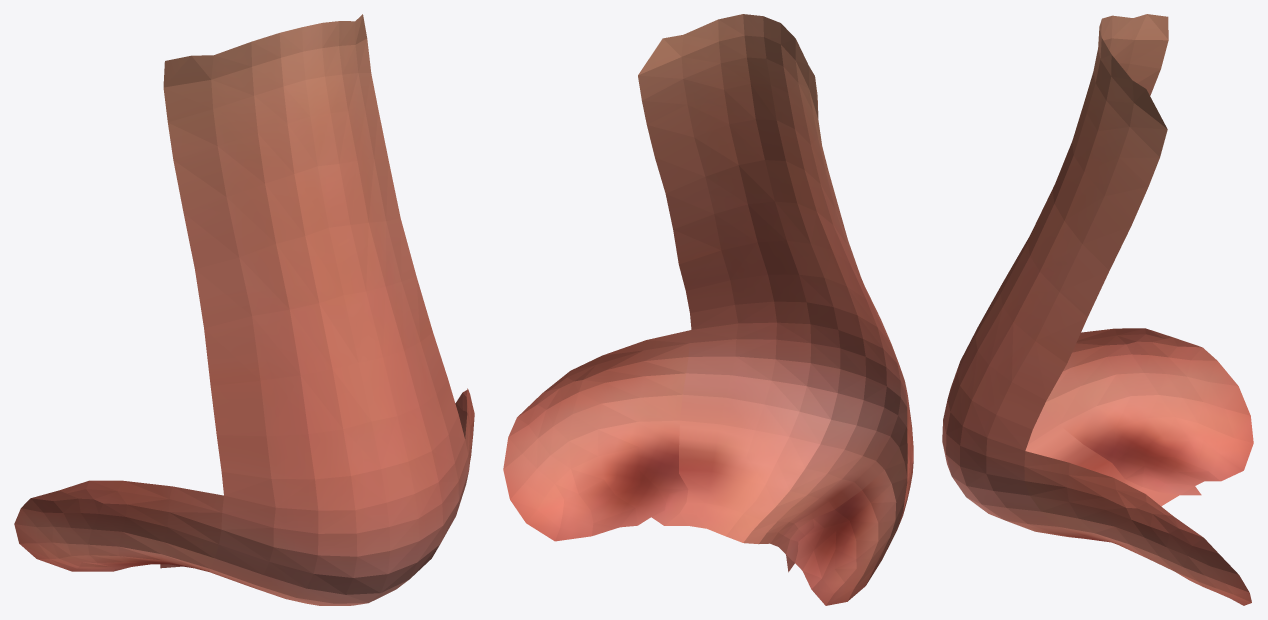
File: euro-nose-bridge-short.obj
The picture shows the model from 3 angles, left to right: view 1: azimuth 30°, elevation 25°; view 2: azimuth 150°, elevation 25°; view 3: azimuth 270°, elevation 25°; orthographic projection. The views are drawn at different scales.
Visible parts, largest first — view 1: euro-nose-bridge-shor.001; view 2: euro-nose-bridge-shor.001; view 3: euro-nose-bridge-shor.001.
Boxes of the visible parts, x1,y1,x2,y2 form: euro-nose-bridge-shor.001: (14, 14, 474, 605); euro-nose-bridge-shor.001: (503, 14, 913, 605); euro-nose-bridge-shor.001: (942, 14, 1253, 605).
Size of the model in its own units: 0.2102 by 0.265 by 0.1444.
1 material, 1 textured.
